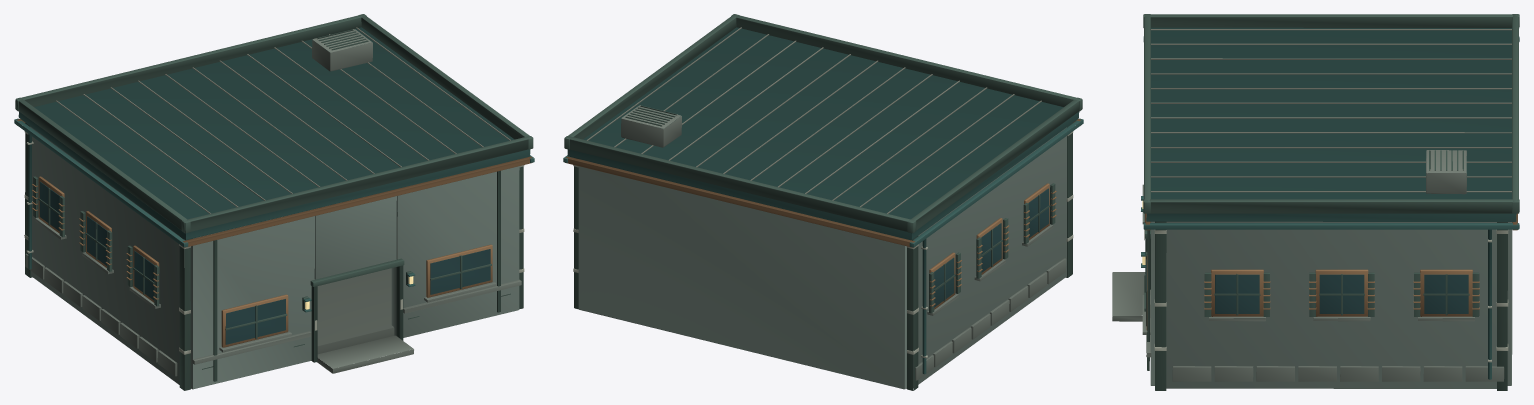
The model's file is kf-lab-balanced.glb.
3 renders of one model, left to right at view 1: azimuth 30°, elevation 25°; view 2: azimuth 150°, elevation 25°; view 3: azimuth 270°, elevation 25°, orthographic. The views are drawn at different scales.
Parts seen in each view (by area): view 1: Roof Roof metal, Shell Painted plaster, RoofDetail Timber trim, Shell Foundation, Shell Timber trim, Shell Window glass, Shell Warm wood, RoofDetail Brushed hardware, Shell Roof metal, RoofDetail Foundation; view 2: Shell Painted plaster, Roof Roof metal, RoofDetail Timber trim, Shell Timber trim, RoofDetail Brushed hardware, Shell Warm wood, Shell Foundation, Shell Roof metal, Shell Window glass, RoofDetail Foundation; view 3: Roof Roof metal, Shell Painted plaster, RoofDetail Timber trim, RoofDetail Brushed hardware, Shell Foundation, Shell Timber trim, Shell Window glass, Shell Roof metal, Shell Warm wood, RoofDetail Foundation, Shell Brushed hardware.
Boxes of the visible parts, bbox=[...] form: Roof Roof metal: bbox=[18, 27, 530, 239]; Shell Painted plaster: bbox=[31, 127, 519, 389]; RoofDetail Timber trim: bbox=[15, 14, 533, 233]; Shell Foundation: bbox=[25, 217, 521, 388]; Shell Timber trim: bbox=[25, 123, 523, 390]; Shell Window glass: bbox=[39, 181, 490, 344]; Shell Warm wood: bbox=[17, 119, 532, 347]; RoofDetail Brushed hardware: bbox=[56, 27, 510, 213]; Shell Roof metal: bbox=[14, 118, 534, 312]; RoofDetail Foundation: bbox=[312, 29, 372, 71]; Shell Painted plaster: bbox=[578, 127, 1066, 389]; Roof Roof metal: bbox=[567, 27, 1079, 240]; RoofDetail Timber trim: bbox=[564, 14, 1082, 233]; Shell Timber trim: bbox=[574, 123, 1072, 390]; RoofDetail Brushed hardware: bbox=[587, 27, 1041, 213]; Shell Warm wood: bbox=[565, 119, 1080, 309]; Shell Foundation: bbox=[906, 224, 1066, 388]; Shell Roof metal: bbox=[563, 118, 1083, 374]; Shell Window glass: bbox=[934, 188, 1048, 307]; RoofDetail Foundation: bbox=[621, 105, 681, 147]; Roof Roof metal: bbox=[1146, 27, 1516, 221]; Shell Painted plaster: bbox=[1150, 221, 1512, 388]; RoofDetail Timber trim: bbox=[1143, 14, 1519, 213]; RoofDetail Brushed hardware: bbox=[1151, 29, 1511, 192]; Shell Foundation: bbox=[1112, 184, 1504, 381]; Shell Timber trim: bbox=[1144, 214, 1507, 390]; Shell Window glass: bbox=[1146, 259, 1468, 326]; Shell Roof metal: bbox=[1141, 36, 1519, 379]; Shell Warm wood: bbox=[1145, 213, 1517, 330]; RoofDetail Foundation: bbox=[1426, 150, 1466, 194]; Shell Brushed hardware: bbox=[1144, 229, 1508, 362].
Size of the model in its own units: 12.88 by 6.51 by 11.69.
